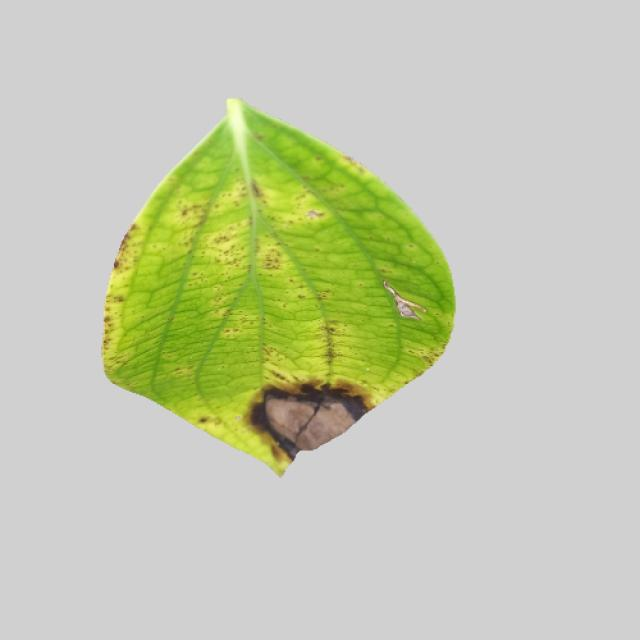leaf-blight: (88, 99, 461, 474)
